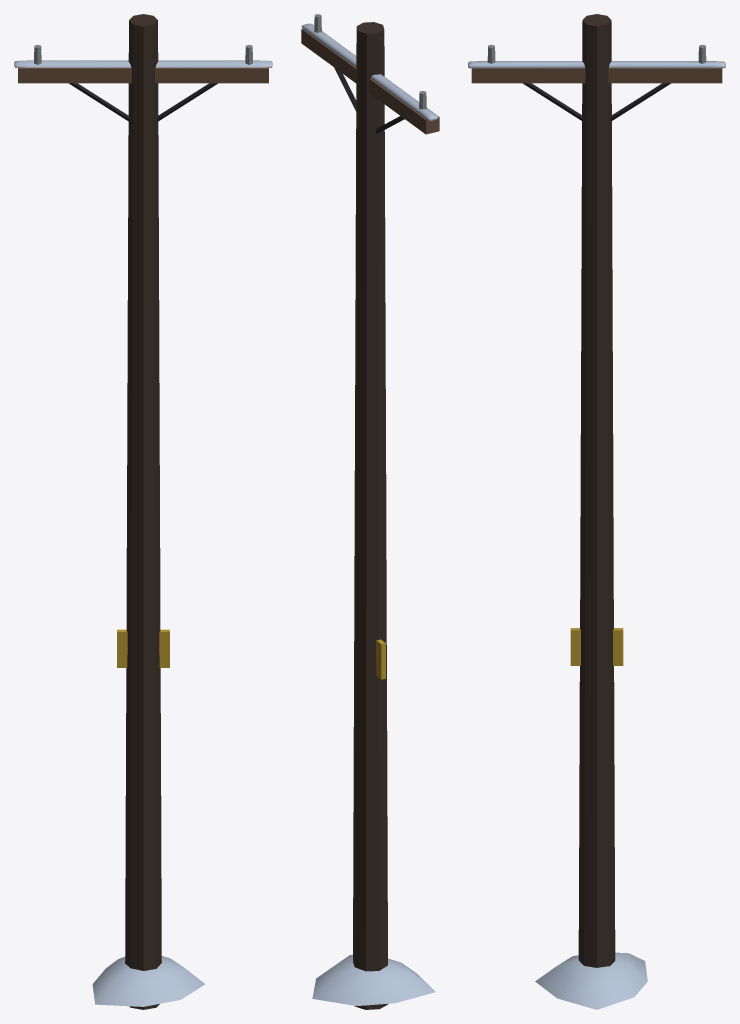
File: power_pole.glb
3 views of the same model, side by side, from view 1: azimuth 90°, elevation 25°; view 2: azimuth 210°, elevation 25°; view 3: azimuth 270°, elevation 25° (orthographic).
Visible parts, largest first — view 1: Prop; view 2: Prop; view 3: Prop.
Boxes of the visible parts, <box> form: Prop: <box>14,14,272,1009</box>; Prop: <box>301,14,439,1009</box>; Prop: <box>468,14,725,1009</box>.
Size of the model in its own units: 0.9192 by 8.2 by 1.96.
